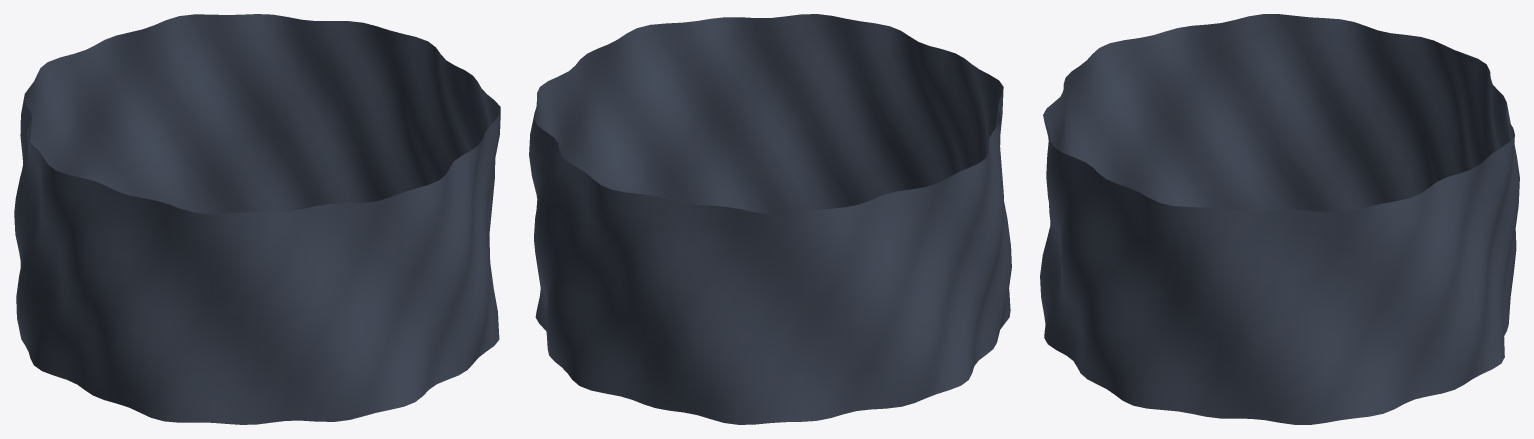
File: storm_wall.glb
The picture shows the model from 3 angles, left to right: view 1: azimuth 30°, elevation 25°; view 2: azimuth 150°, elevation 25°; view 3: azimuth 270°, elevation 25°; orthographic projection.
Parts seen in each view (by area): view 1: StormWall; view 2: StormWall; view 3: StormWall.
Part boxes in pixels (box(x1,y1,x2,y2)): StormWall: box(14, 14, 500, 424); StormWall: box(529, 14, 1011, 424); StormWall: box(1040, 14, 1519, 424).
Bounding box in the file's own units: 2.08 × 1 × 2.07.
